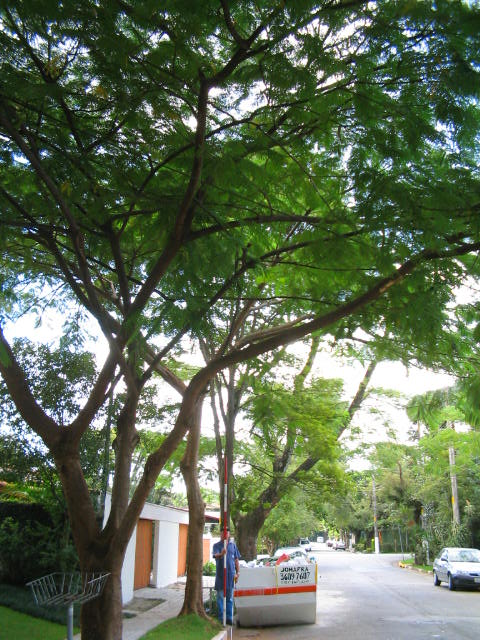crown: (5, 5, 480, 423)
stem: (54, 525, 145, 640), (177, 398, 218, 623)
stick: (219, 455, 229, 627)
tree: (3, 4, 479, 639)
